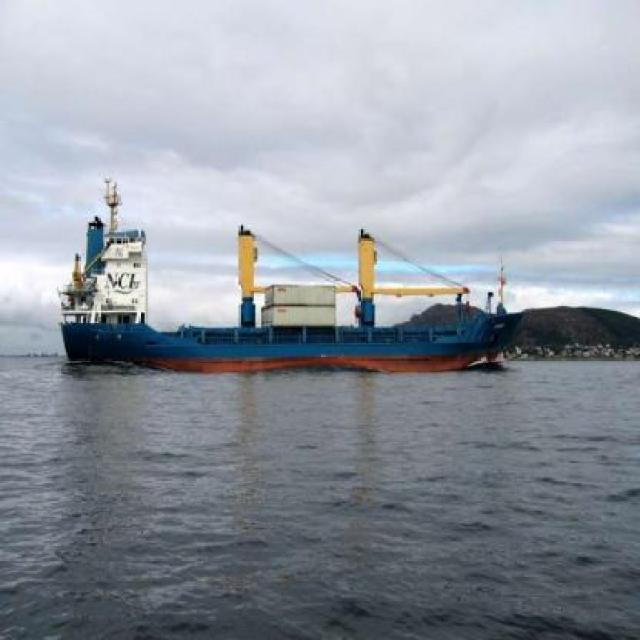ship: (21, 196, 530, 376)
